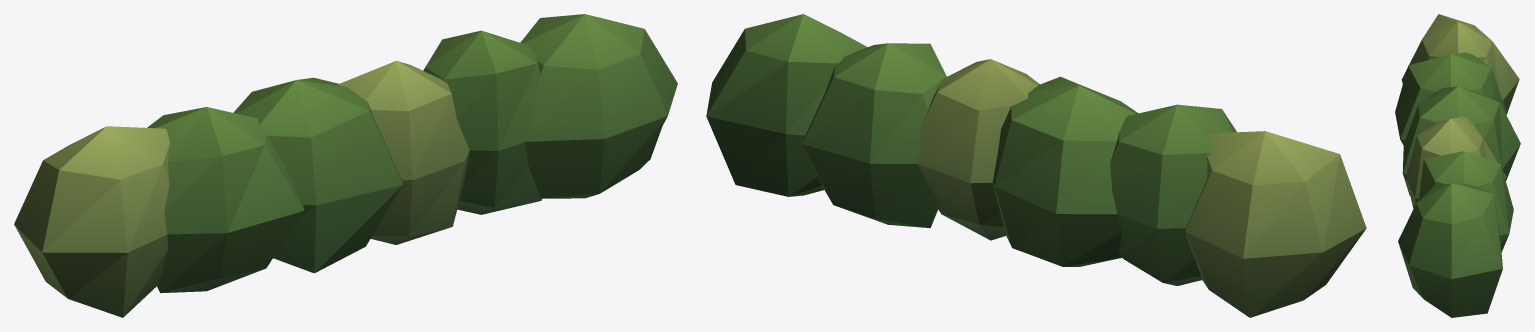
Rendered from scene_hedge_4.glb.
3 renders of one model, left to right at view 1: azimuth 30°, elevation 25°; view 2: azimuth 150°, elevation 25°; view 3: azimuth 270°, elevation 25°, orthographic. The views are drawn at different scales.
Visible parts, largest first — view 1: scene_hedge_4; view 2: scene_hedge_4; view 3: scene_hedge_4.
Part boxes in pixels (x1,y1,x2,y2): scene_hedge_4: [14, 14, 677, 317]; scene_hedge_4: [706, 14, 1366, 317]; scene_hedge_4: [1395, 14, 1520, 317].
Bounding box in the file's own units: 4.12 × 1.12 × 0.9898.
